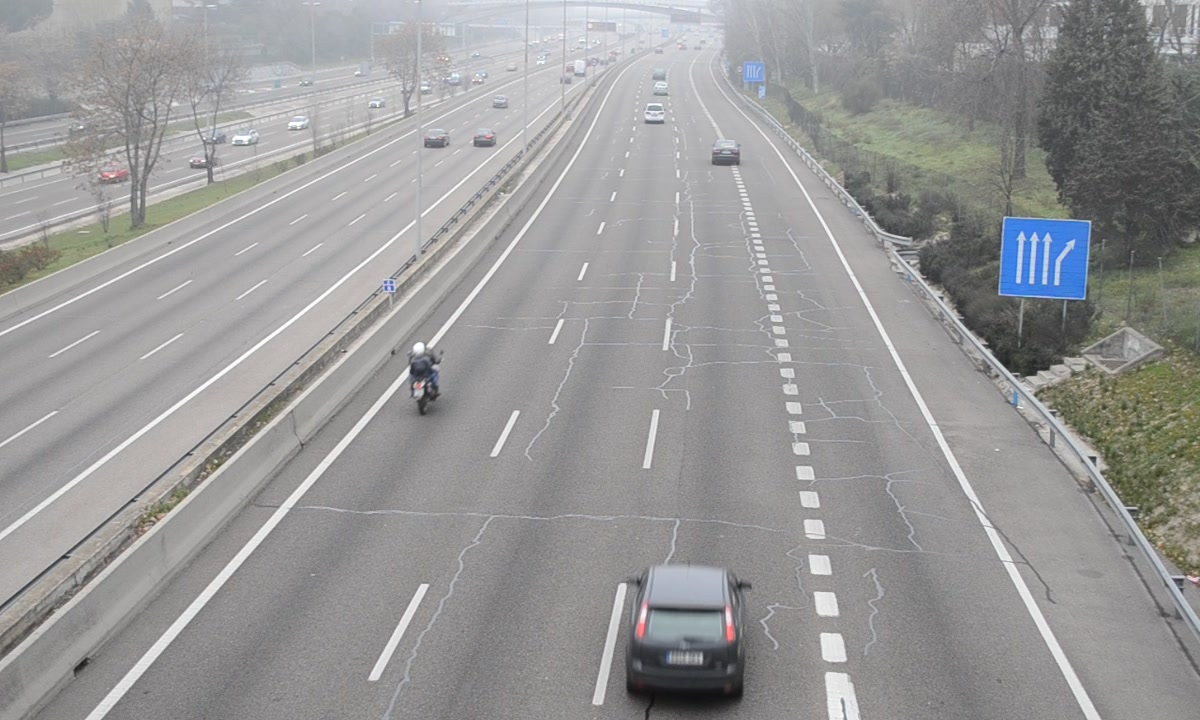car: (624, 562, 751, 703), (711, 139, 739, 166), (643, 103, 666, 125)
motorcycle: (407, 340, 441, 415)
